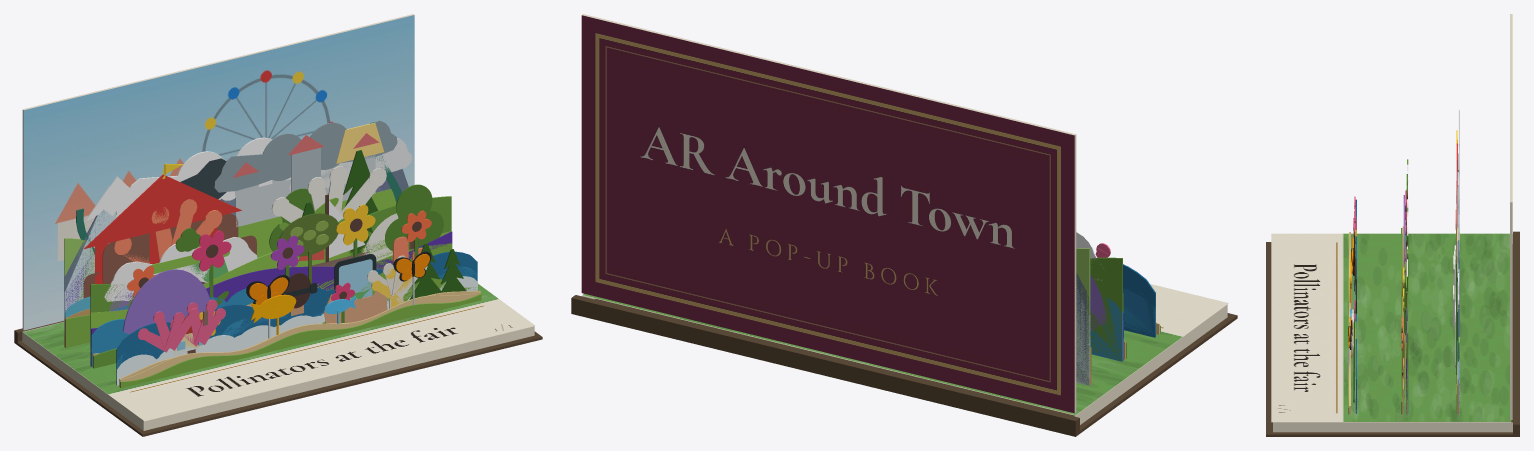
Rendered from PopUp.glb.
3 renders of one model, left to right at view 1: azimuth 30°, elevation 25°; view 2: azimuth 150°, elevation 25°; view 3: azimuth 270°, elevation 25°, orthographic. The views are drawn at different scales.
Parts seen in each view (by area): view 1: popup__ar_around_town_s0_back, popup__ar_around_town_s0_floor, popup__base, popup__ar_around_town_s0_l3, popup__oceans_vr_s0_l2, popup__water_cycle_s3_l3, popup__what_is_xr_s0_l3, popup__ar_around_town_s0_l1, popup__oceans_vr_s0_l1, popup__water_cycle_s0_l1, popup__ar_around_town_s0_l2, popup__oceans_vr_s1_l3 (+17 smaller); view 2: popup__ar_around_town_s0_back, popup__base, popup__ar_around_town_s0_floor, popup__water_cycle_s3_l2, popup__water_cycle_s0_l2, popup__water_cycle_s1_l3, popup__water_cycle_s0_l3, popup__water_cycle_s3_l1, popup__water_cycle_s3_l3, popup__water_cycle_s1_l1, popup__oceans_vr_s1_l2; view 3: popup__ar_around_town_s0_floor, popup__base, popup__ar_around_town_s0_back, popup__ar_around_town_s0_l2, popup__ar_around_town_s0_l1, popup__oceans_vr_s0_l2, popup__water_cycle_s3_l3, popup__ar_around_town_s0_l3, popup__oceans_vr_s1_l3, popup__oceans_vr_s0_l1, popup__oceans_vr_s1_l1, popup__water_cycle_s2_l3 (+1 smaller).
Part boxes in pixels (bbox=[...]): popup__ar_around_town_s0_back: bbox=[22, 14, 414, 330]; popup__ar_around_town_s0_floor: bbox=[23, 284, 534, 420]; popup__base: bbox=[14, 321, 542, 436]; popup__ar_around_town_s0_l3: bbox=[65, 150, 378, 348]; popup__oceans_vr_s0_l2: bbox=[92, 197, 422, 367]; popup__water_cycle_s3_l3: bbox=[64, 120, 408, 310]; popup__what_is_xr_s0_l3: bbox=[65, 133, 395, 310]; popup__ar_around_town_s0_l1: bbox=[120, 251, 481, 388]; popup__oceans_vr_s0_l1: bbox=[119, 268, 480, 387]; popup__water_cycle_s0_l1: bbox=[116, 251, 477, 385]; popup__ar_around_town_s0_l2: bbox=[93, 204, 431, 368]; popup__oceans_vr_s1_l3: bbox=[64, 166, 386, 346]; popup__ar_around_town_s0_back: bbox=[581, 14, 1076, 413]; popup__base: bbox=[571, 295, 1237, 436]; popup__ar_around_town_s0_floor: bbox=[583, 284, 1228, 415]; popup__water_cycle_s3_l2: bbox=[1090, 257, 1122, 360]; popup__water_cycle_s0_l2: bbox=[1090, 296, 1122, 361]; popup__water_cycle_s1_l3: bbox=[1076, 248, 1090, 384]; popup__water_cycle_s0_l3: bbox=[1076, 286, 1090, 385]; popup__water_cycle_s3_l1: bbox=[1123, 289, 1154, 335]; popup__water_cycle_s3_l3: bbox=[1076, 273, 1089, 384]; popup__water_cycle_s1_l1: bbox=[1123, 276, 1155, 337]; popup__oceans_vr_s1_l2: bbox=[1090, 274, 1123, 360]; popup__ar_around_town_s0_floor: bbox=[1271, 233, 1511, 421]; popup__base: bbox=[1266, 231, 1519, 436]; popup__ar_around_town_s0_back: bbox=[1510, 14, 1512, 419]; popup__ar_around_town_s0_l2: bbox=[1401, 190, 1406, 414]; popup__ar_around_town_s0_l1: bbox=[1348, 229, 1356, 414]; popup__oceans_vr_s0_l2: bbox=[1402, 195, 1408, 414]; popup__water_cycle_s3_l3: bbox=[1457, 109, 1459, 412]; popup__ar_around_town_s0_l3: bbox=[1455, 130, 1457, 413]; popup__oceans_vr_s1_l3: bbox=[1453, 181, 1459, 413]; popup__oceans_vr_s0_l1: bbox=[1349, 196, 1355, 413]; popup__oceans_vr_s1_l1: bbox=[1349, 212, 1356, 414]; popup__water_cycle_s2_l3: bbox=[1458, 128, 1459, 393].
Bounding box in the file's own units: 0.532 × 0.299 × 0.296.
91 materials, 22 textured.
